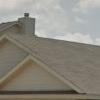Chimney: (15, 9, 46, 46)
